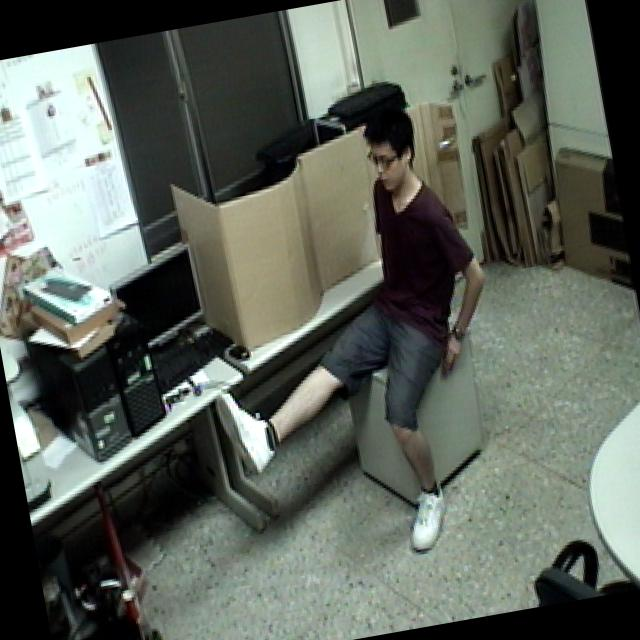sit: (165, 82, 538, 585)
